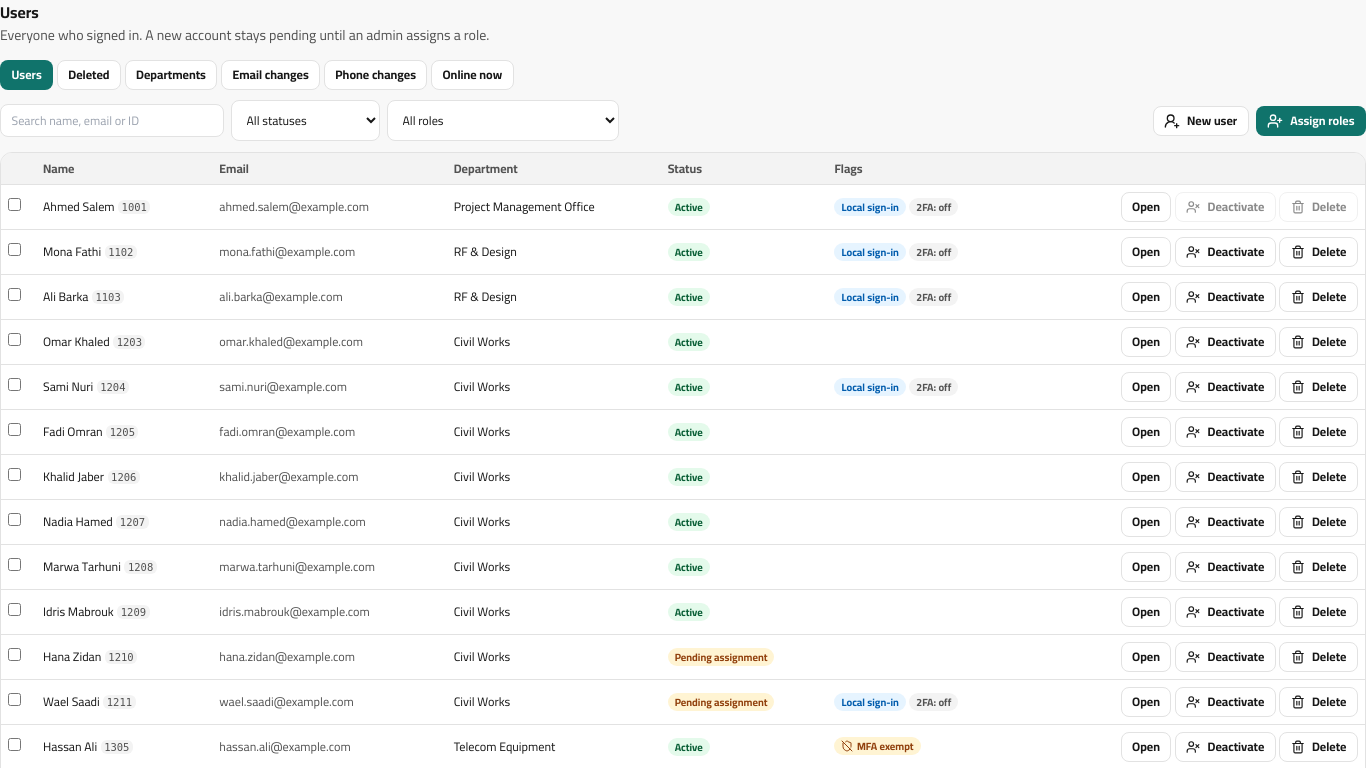
create user › maps a 409 duplicate to the field
The image size is (1366, 768).
Click the button with test id "users-new". click: (1201,120)
box: left=1153, top=106, right=1249, bottom=136
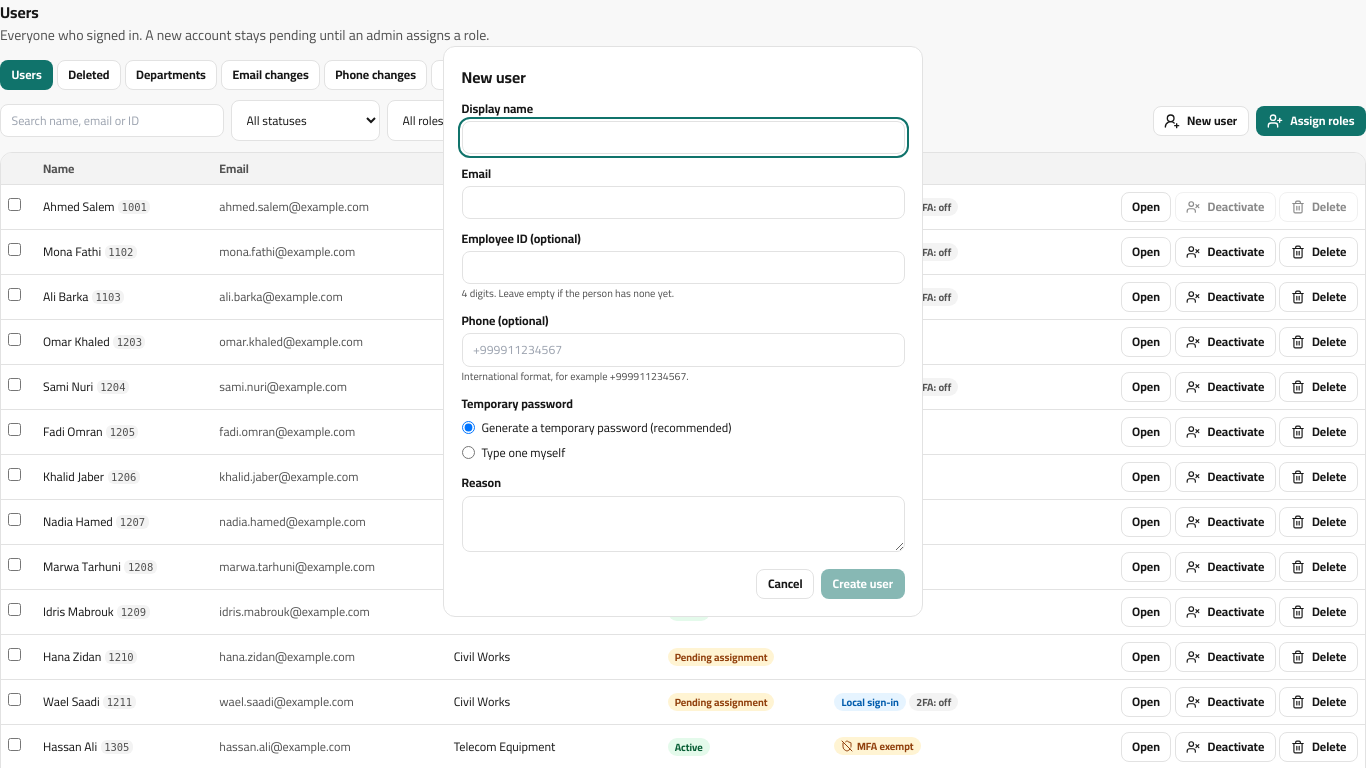
Type "Copy Cat" into the field with test id "new-user-name". click: (683,137)
box: left=462, top=121, right=904, bottom=154
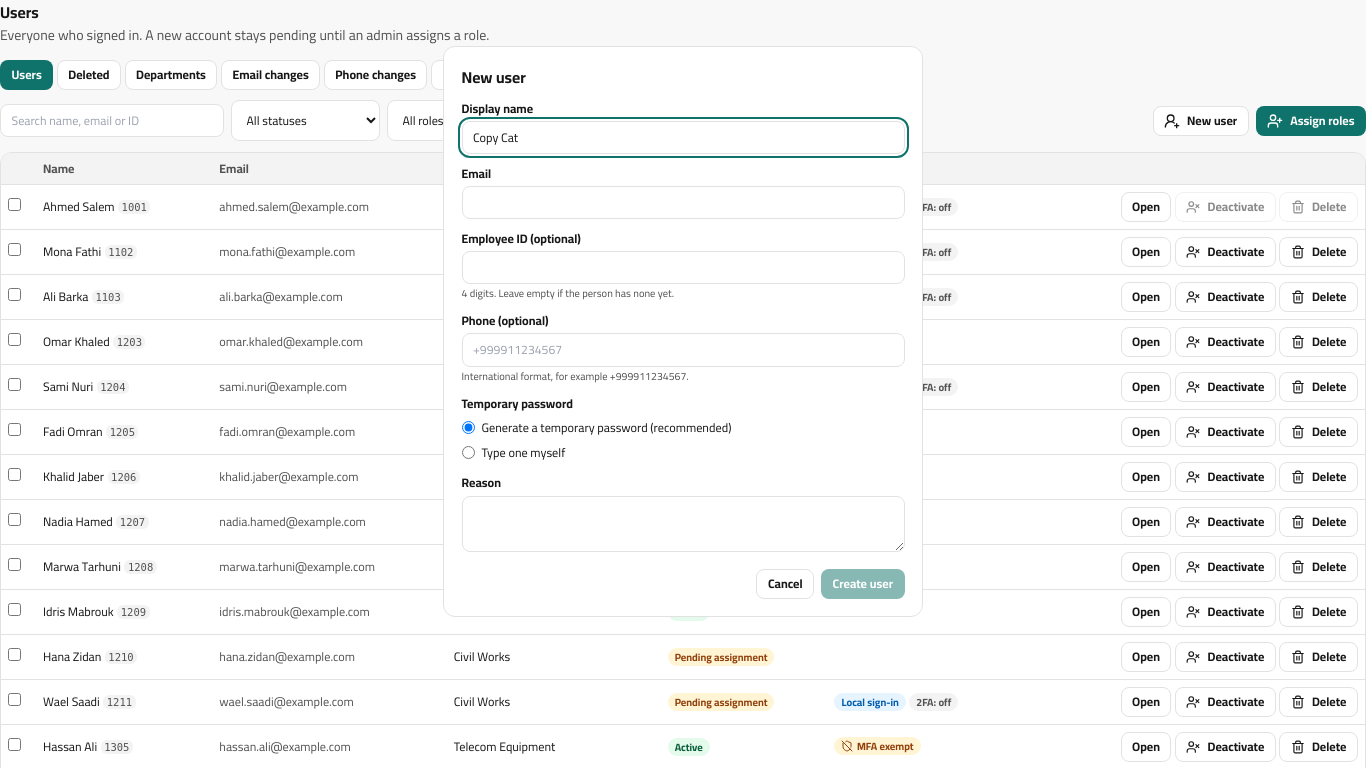
Type "ahmed.salem@example.com" into the field with test id "new-user-email". click: (683,202)
box: left=462, top=186, right=904, bottom=219
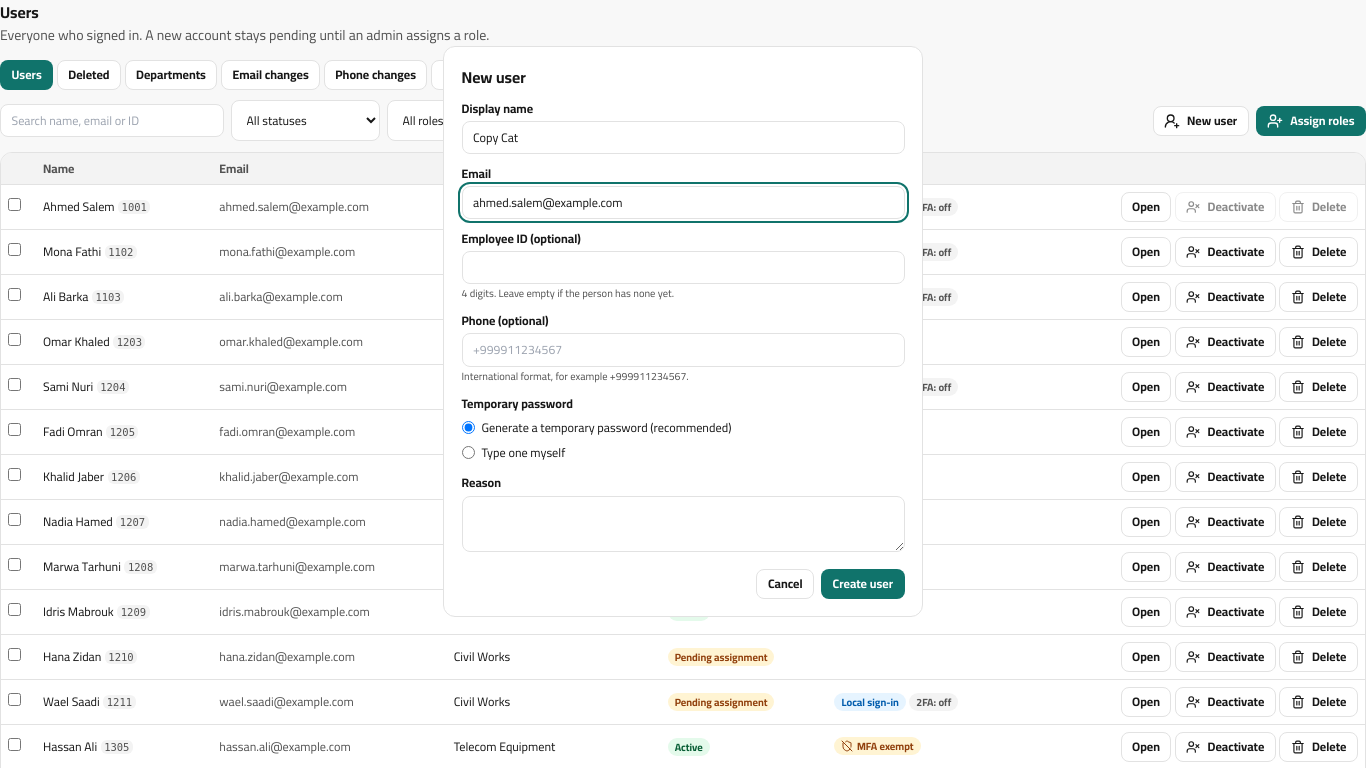
Type "1001" into the field with test id "new-user-employee-id". click: (683,267)
box: left=462, top=251, right=904, bottom=284
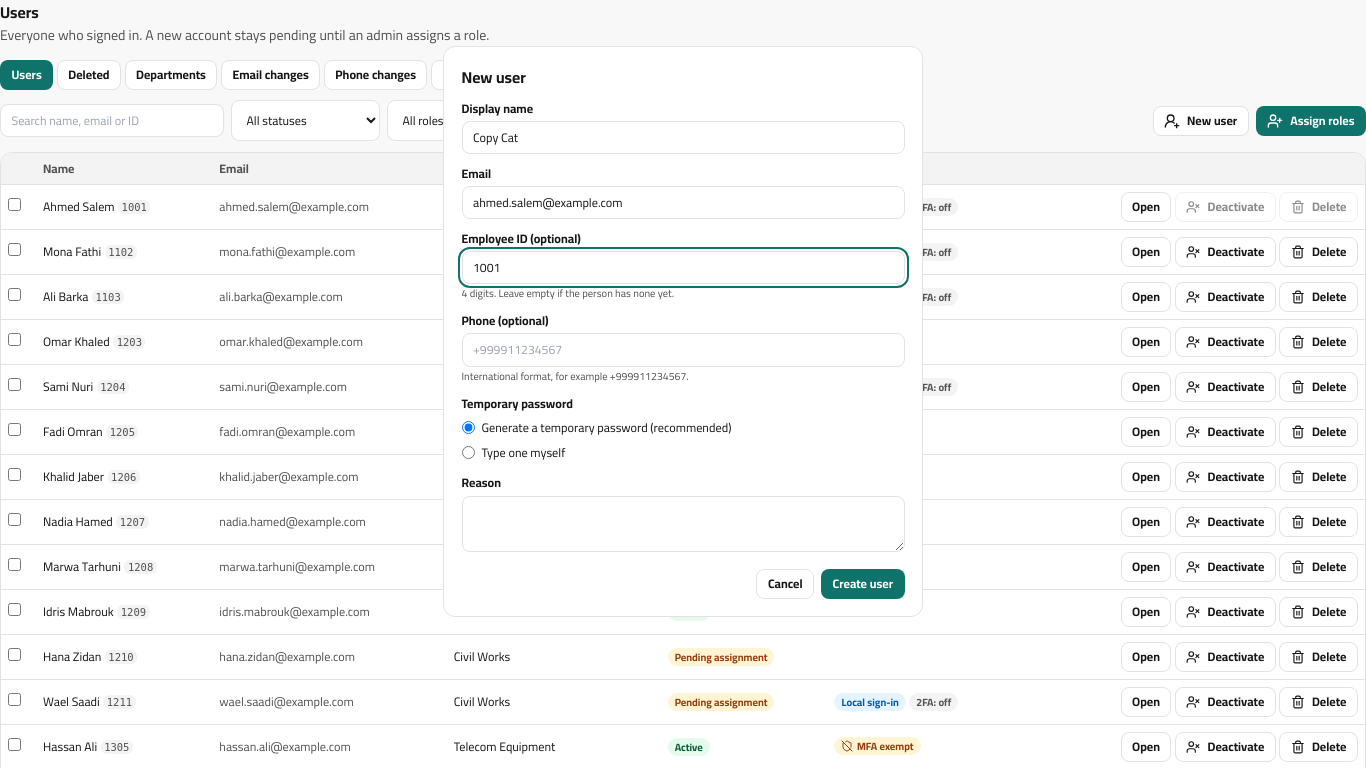
Type "Testing duplicates" into the text box with test id "new-user-dialog-reason". click: (683,524)
box: left=462, top=496, right=904, bottom=552
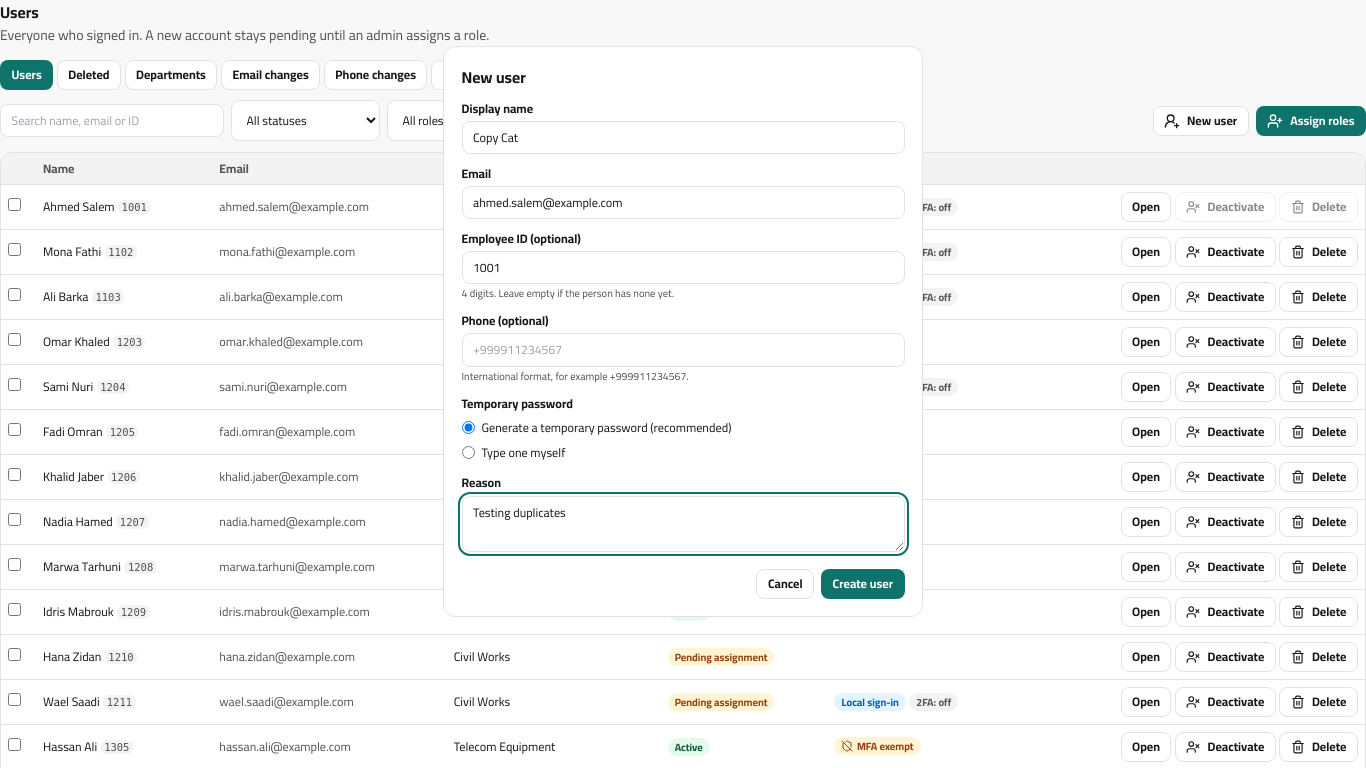
Click the button with test id "new-user-dialog-submit". click: (863,584)
box: left=821, top=569, right=904, bottom=599
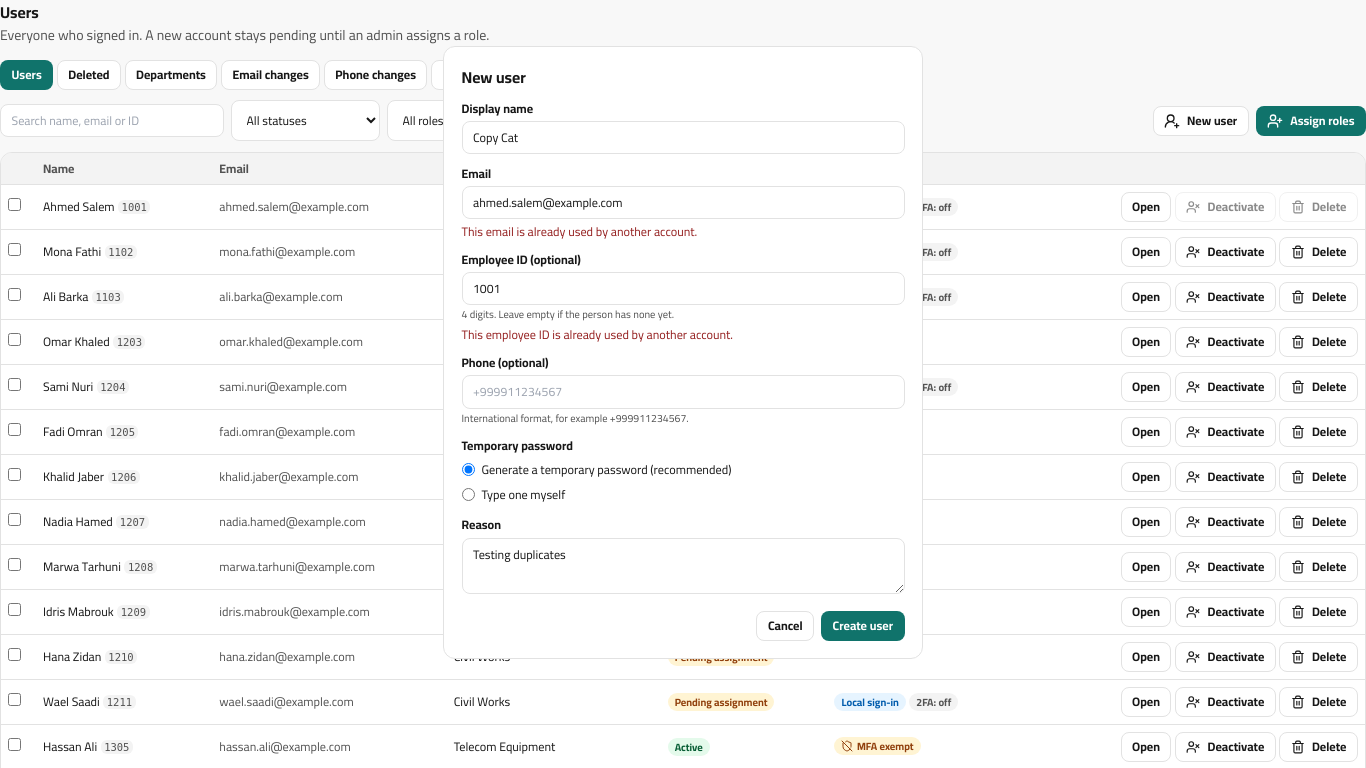
Now the message with test id "new-user-email-error" shows "already used", box left=462, top=220, right=697, bottom=243
Now the message "This employee ID is already used by another account." is shown, box left=462, top=323, right=733, bottom=346
